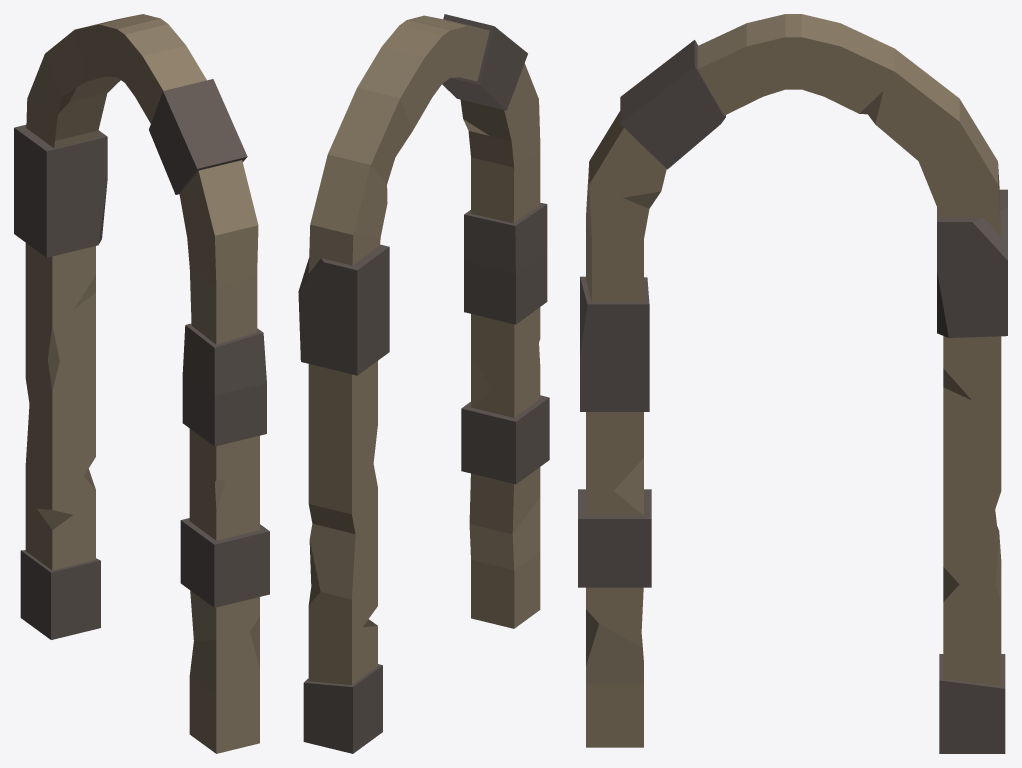
File: Portal2.fbx
The picture shows the model from 3 angles, left to right: view 1: azimuth 30°, elevation 25°; view 2: azimuth 150°, elevation 25°; view 3: azimuth 270°, elevation 25°; orthographic projection. The views are drawn at different scales.
Visible parts, largest first — view 1: Portal; view 2: Portal; view 3: Portal.
Part boxes in pixels (<box>): Portal: <box>14,14,269,753</box>; Portal: <box>298,14,549,753</box>; Portal: <box>578,14,1007,753</box>.
Size of the model in its own units: 215 by 2219 by 1209.
